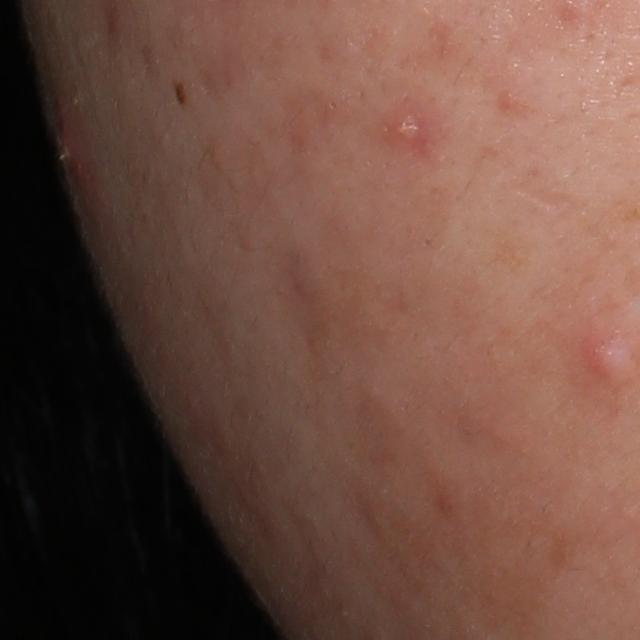nevus: (173, 80, 186, 107)
papule: (585, 332, 631, 390)
